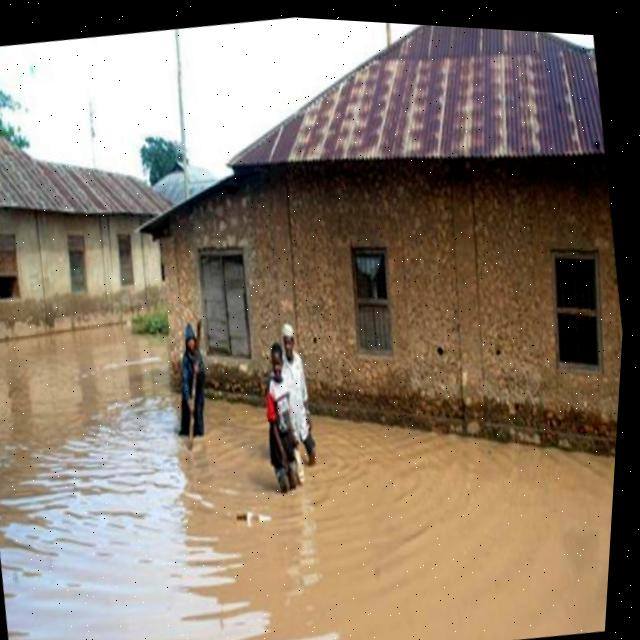civilian: (136, 303, 248, 462), (236, 328, 326, 511), (254, 303, 343, 484)
